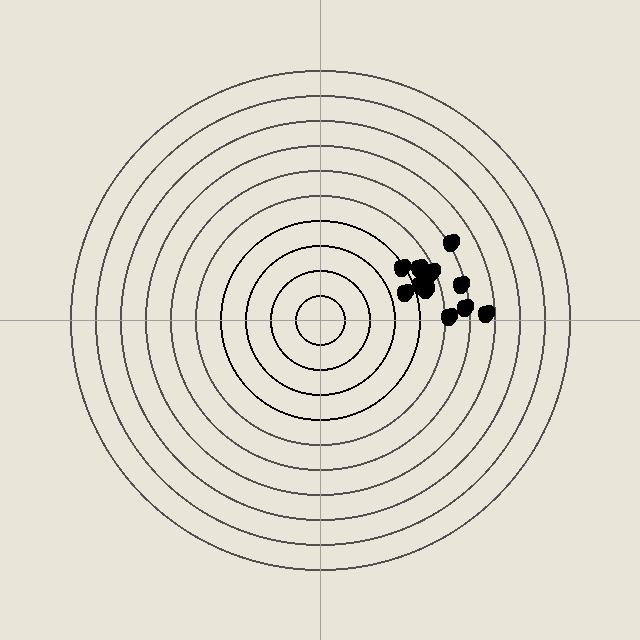good_group: (410, 275, 430, 295), (416, 267, 436, 287), (438, 306, 458, 326), (421, 261, 441, 281), (440, 232, 460, 252), (454, 297, 474, 317), (391, 257, 411, 277), (450, 274, 470, 294), (394, 282, 414, 302), (475, 303, 495, 323), (409, 274, 429, 294), (408, 257, 428, 277), (415, 279, 435, 299)
